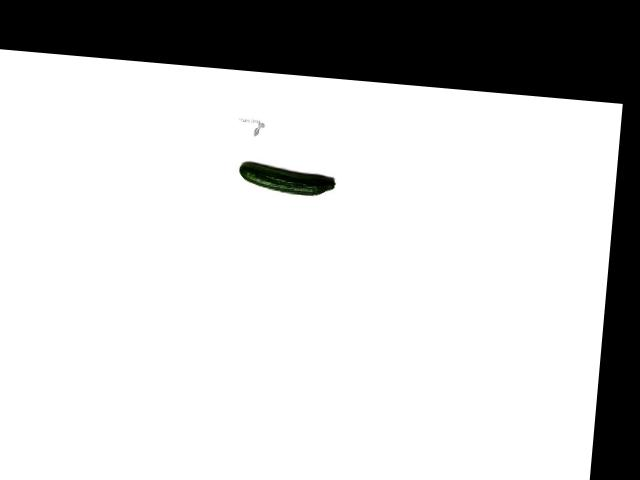cucumber: (236, 161, 336, 197)
